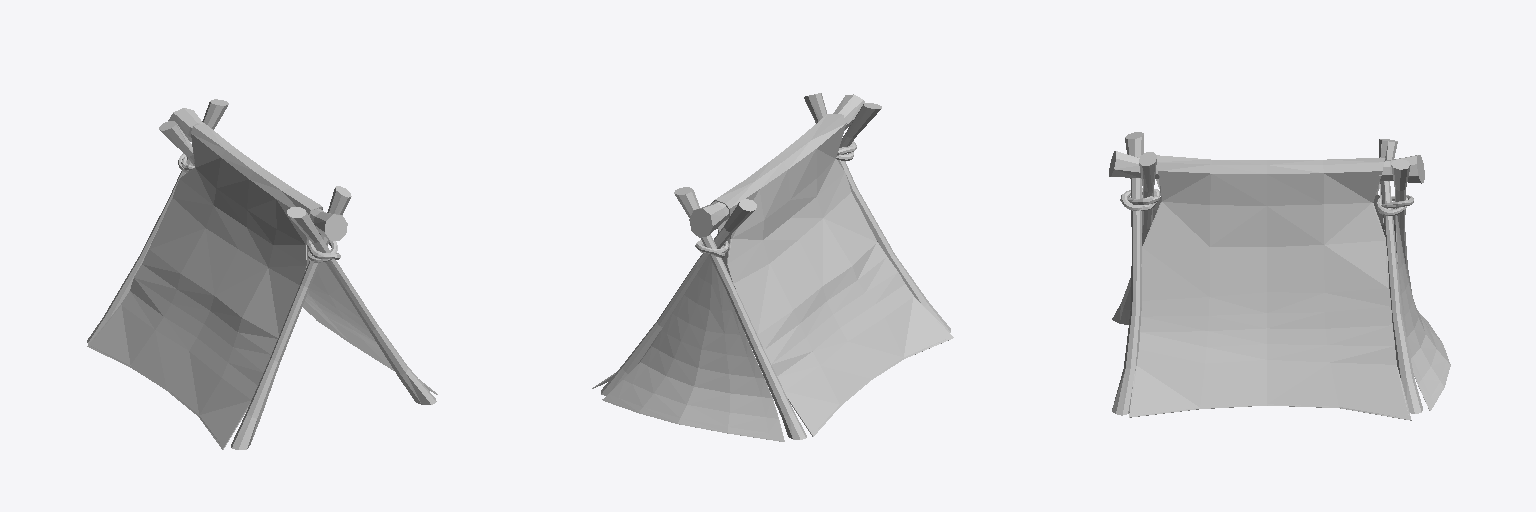
Rendered from tent.obj.
The picture shows the model from 3 angles: view 1: azimuth 30°, elevation 25°; view 2: azimuth 150°, elevation 25°; view 3: azimuth 270°, elevation 25°; orthographic projection.
Visible parts, largest first — view 1: tent_Mesh.027; view 2: tent_Mesh.027; view 3: tent_Mesh.027.
Boxes of the visible parts, x1,y1,x2,y2 form: tent_Mesh.027: [87, 99, 437, 449]; tent_Mesh.027: [592, 93, 953, 441]; tent_Mesh.027: [1109, 132, 1450, 420].
Bounding box in the file's own units: 1.84 × 1.79 × 2.48.